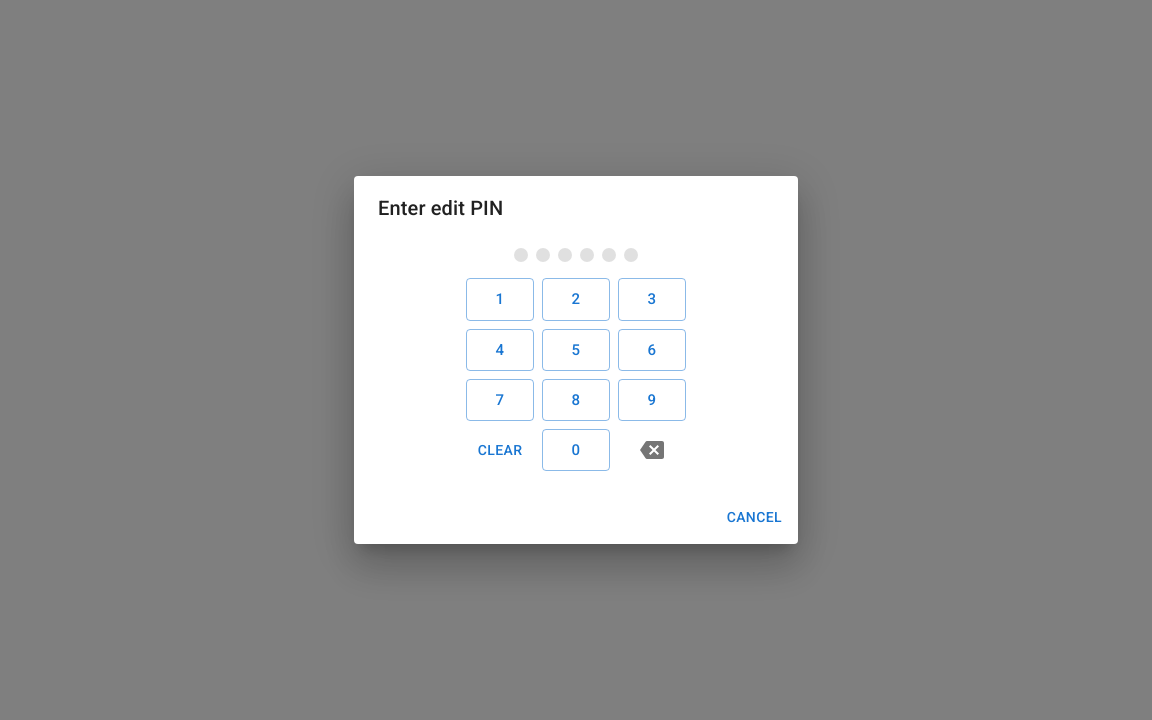
Test: PinKeypadDialog › shows a cooldown countdown on 429 and disables the keypad
Click the button "0": {"x": 576, "y": 450} [542,429,610,471]
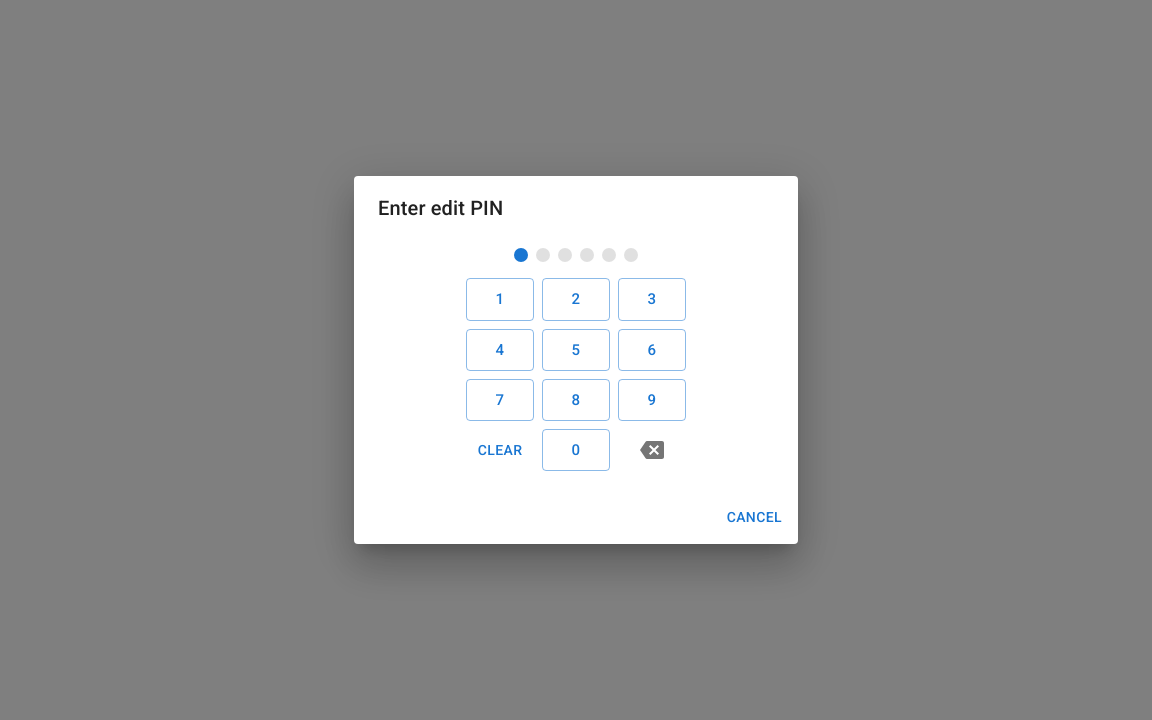
Click the button "0": {"x": 576, "y": 450} [542,429,610,471]
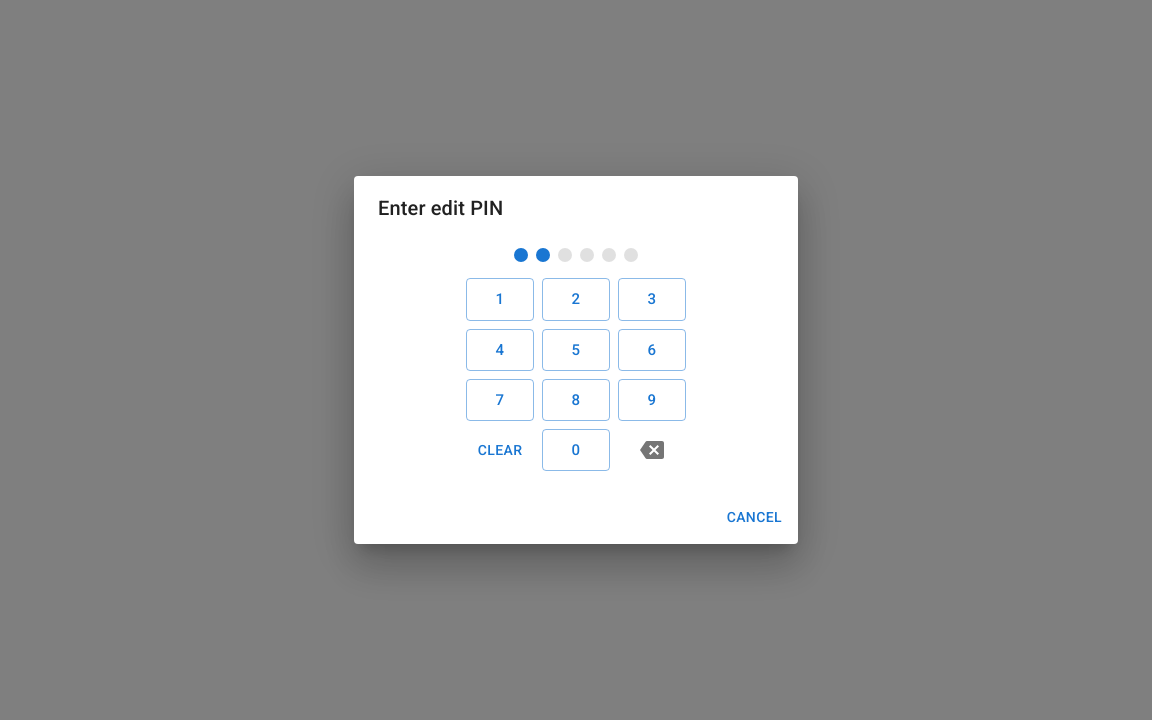
Click the button "0": {"x": 576, "y": 450} [542,429,610,471]
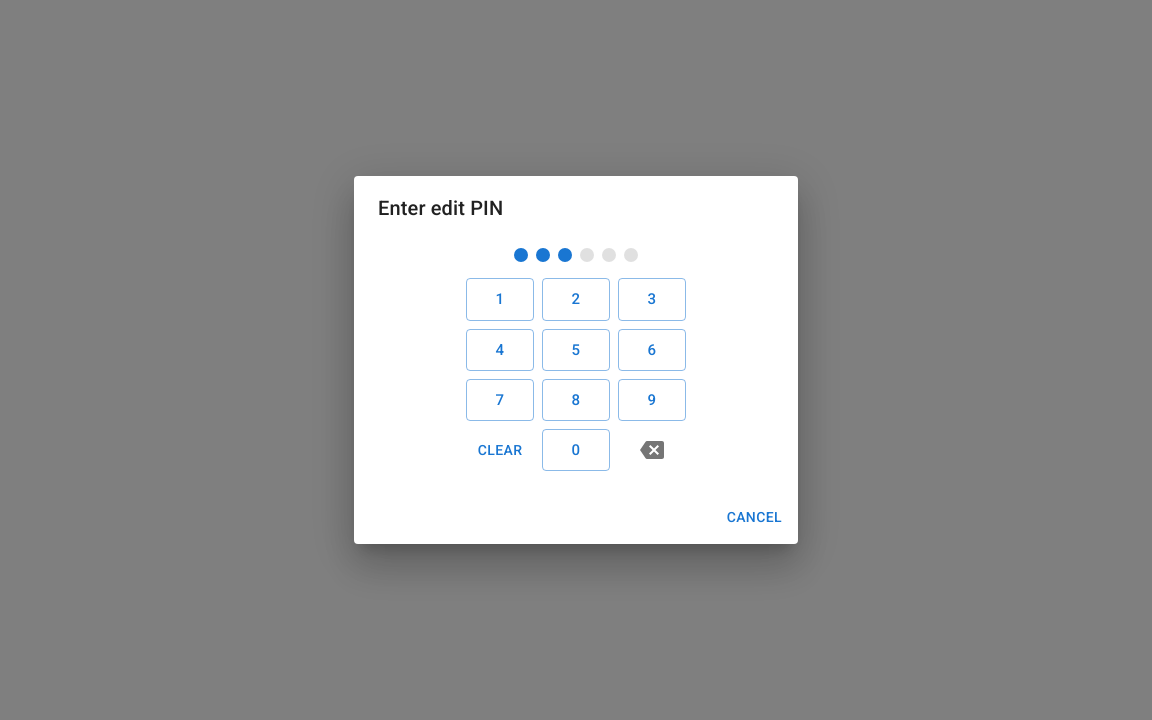
Click the button "0": {"x": 576, "y": 450} [542,429,610,471]
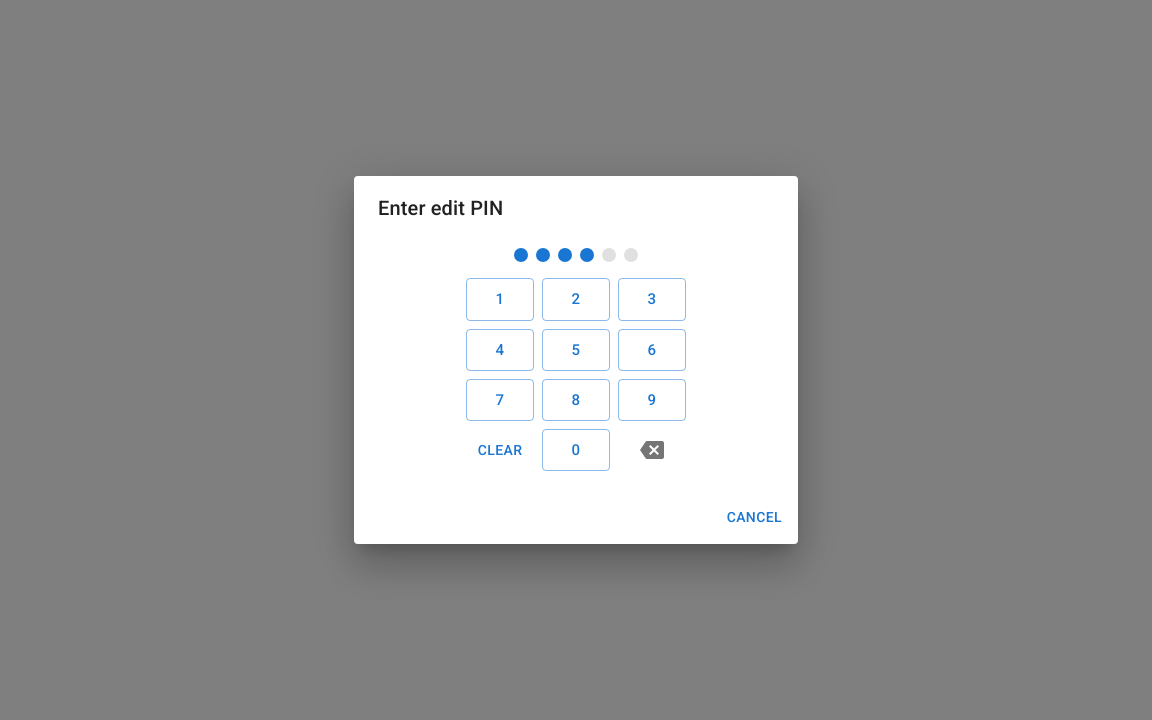
Click the button "0": {"x": 576, "y": 450} [542,429,610,471]
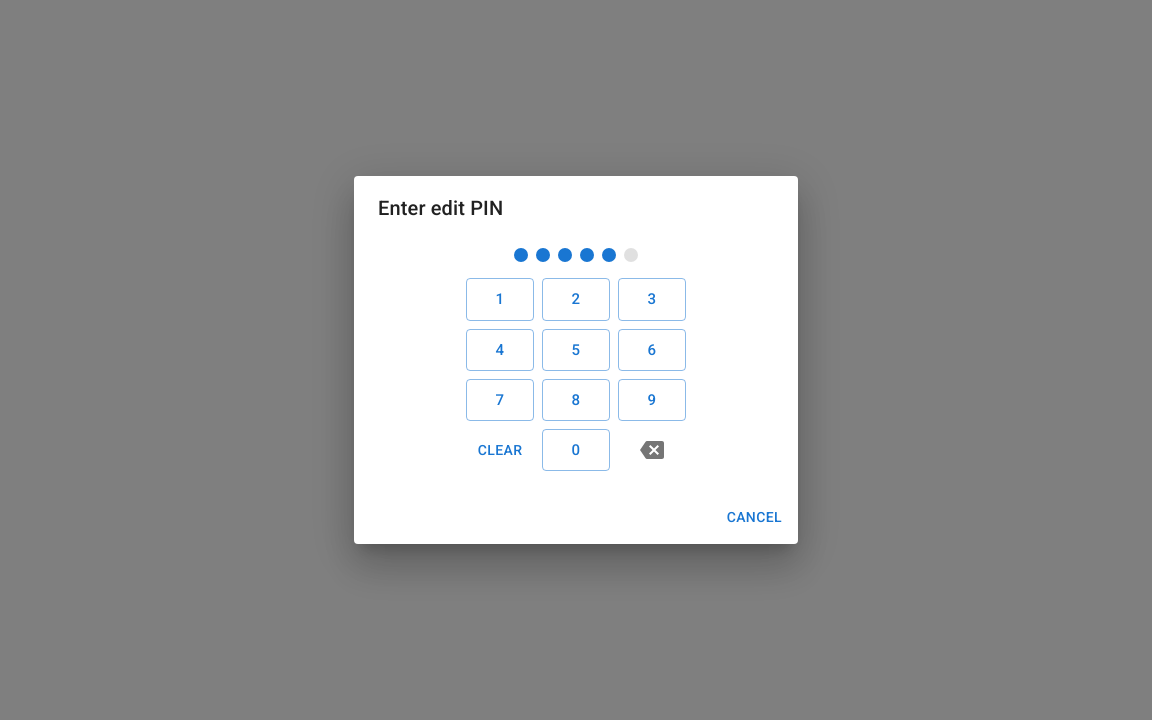
Click the button "0": {"x": 576, "y": 450} [542,429,610,471]
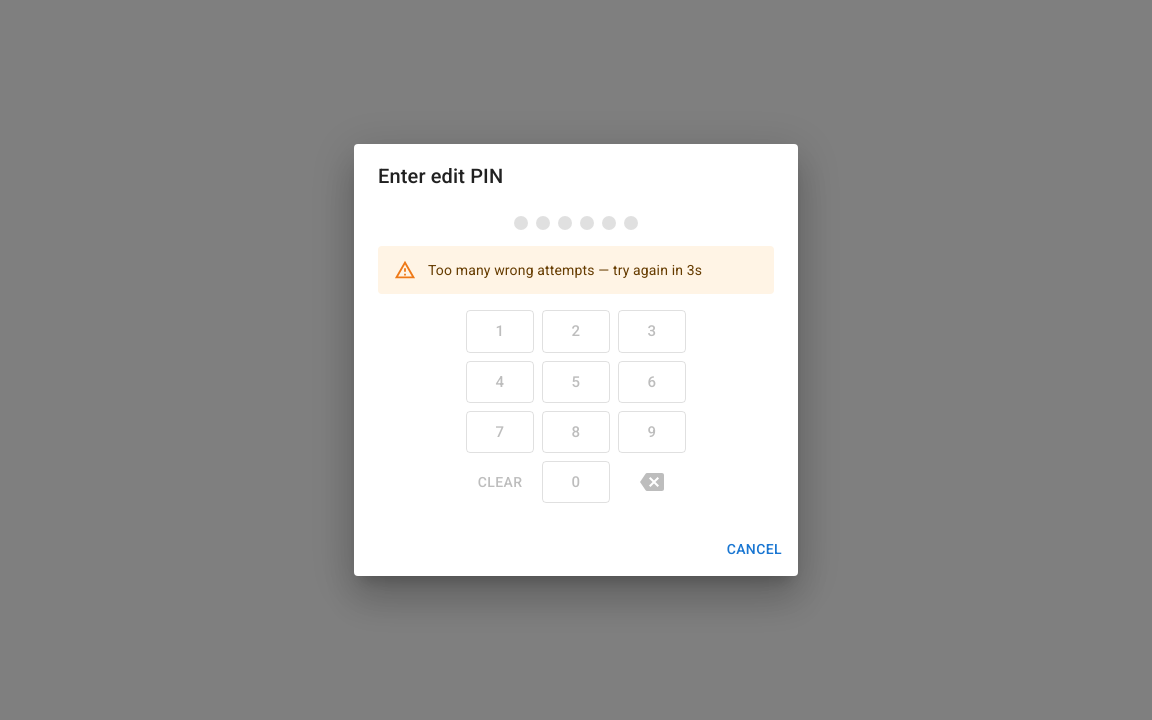
Expected: the text "Too many wrong attempts — try again in 3s" is shown, [428,262,702,278]
Expected: the button "1" is disabled, [466,310,534,353]
